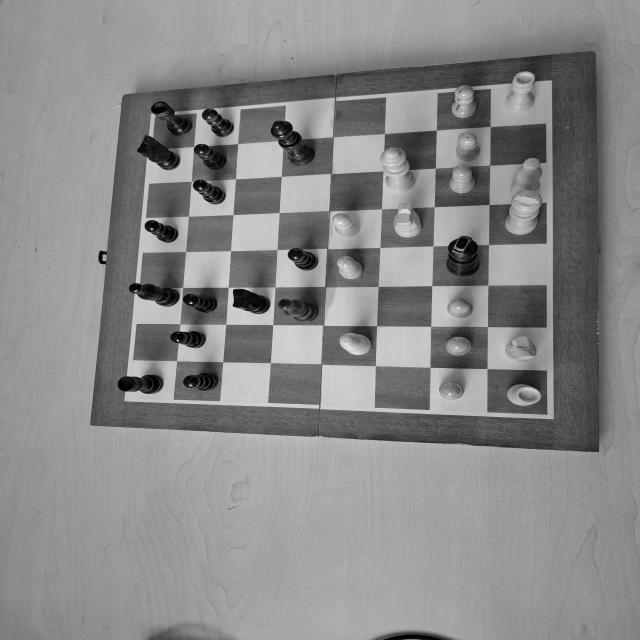chess-table-corners: (534, 407, 558, 423), (536, 78, 558, 92), (121, 392, 139, 405), (148, 112, 164, 122)
